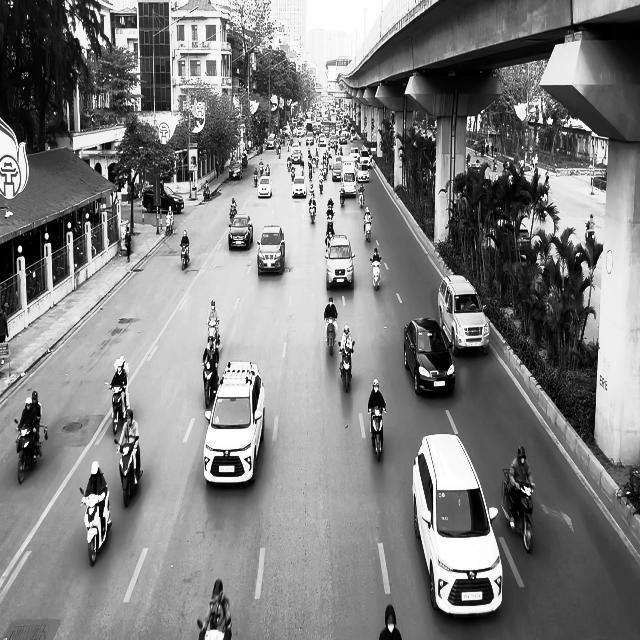car: (412, 432, 503, 617), (203, 360, 265, 486), (437, 274, 490, 356), (404, 316, 456, 396), (325, 233, 355, 290), (257, 225, 285, 275), (228, 213, 253, 250), (257, 175, 272, 198), (292, 175, 306, 198), (228, 160, 242, 180)
motorbike: (500, 467, 534, 553), (79, 485, 112, 565), (14, 418, 48, 483), (115, 435, 144, 507), (105, 381, 128, 434), (368, 405, 386, 462), (202, 353, 219, 408), (338, 341, 354, 392), (324, 314, 337, 356), (369, 256, 382, 290), (206, 320, 220, 348), (180, 243, 190, 270), (363, 217, 372, 242), (308, 197, 316, 223), (340, 188, 346, 206)
